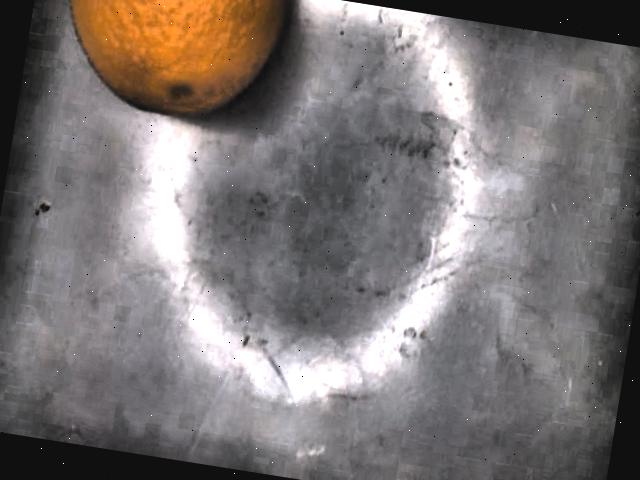Almennt: (70, 0, 284, 120)
